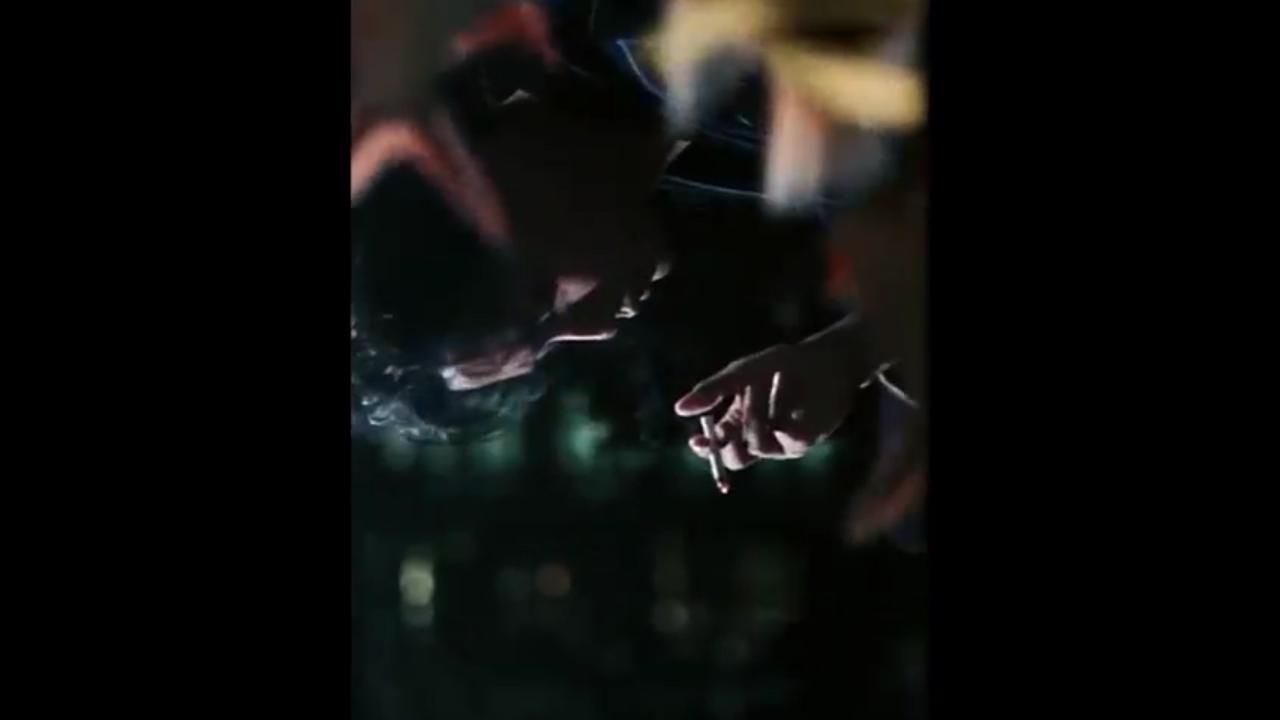Cigarette: (700, 412, 726, 493)
